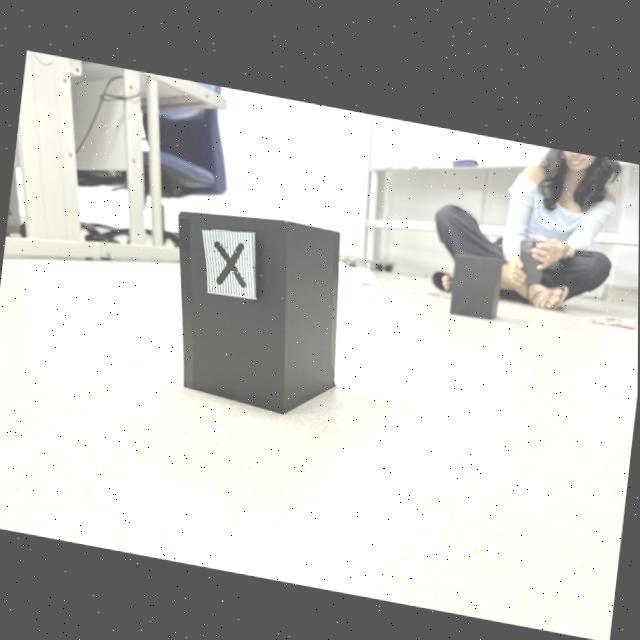X: (214, 237, 245, 282)
